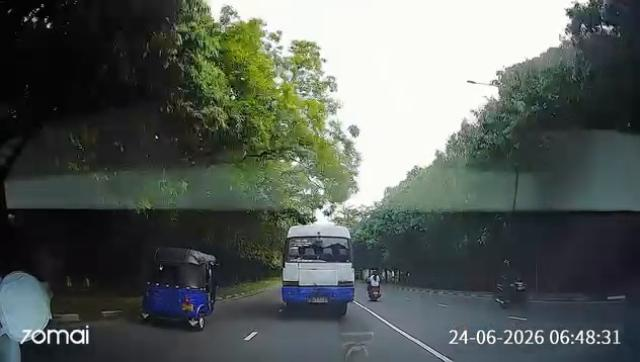illegal overtaking: (364, 268, 387, 303)
